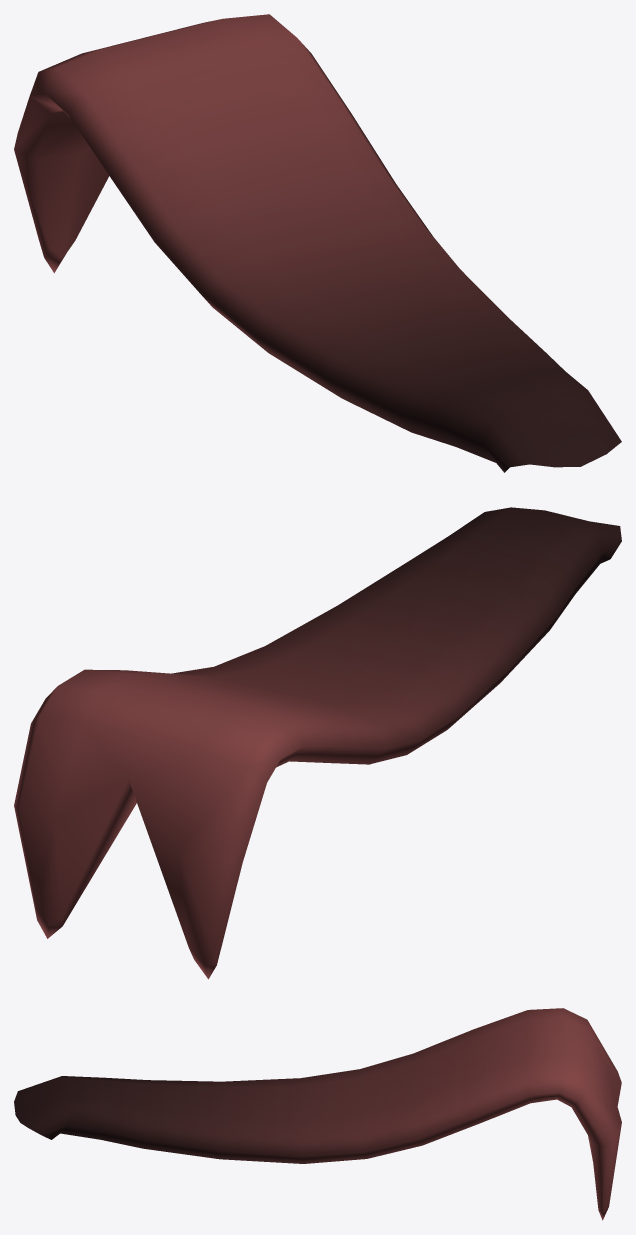
File: forked.glb
3 views of the same model, one above another, from view 1: azimuth 30°, elevation 25°; view 2: azimuth 150°, elevation 25°; view 3: azimuth 270°, elevation 25° (orthographic). The views are drawn at different scales.
Parts seen in each view (by area): view 1: cs_forked4; view 2: cs_forked4; view 3: cs_forked4.
Part boxes in pixels (box(x1,y1,x2,y2)): cs_forked4: box(14, 14, 621, 472); cs_forked4: box(14, 507, 621, 979); cs_forked4: box(14, 1008, 621, 1220).
Bounding box in the file's own units: 0.0521 × 0.0494 × 0.1731.
1 material, 1 textured.
